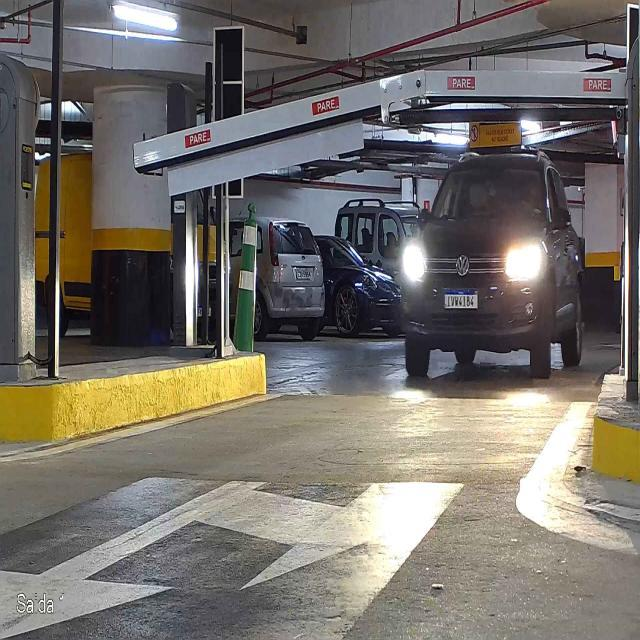mercosul_plate: (442, 288, 480, 311)
